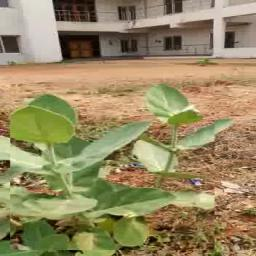Calotropis: (10, 82, 216, 250)
